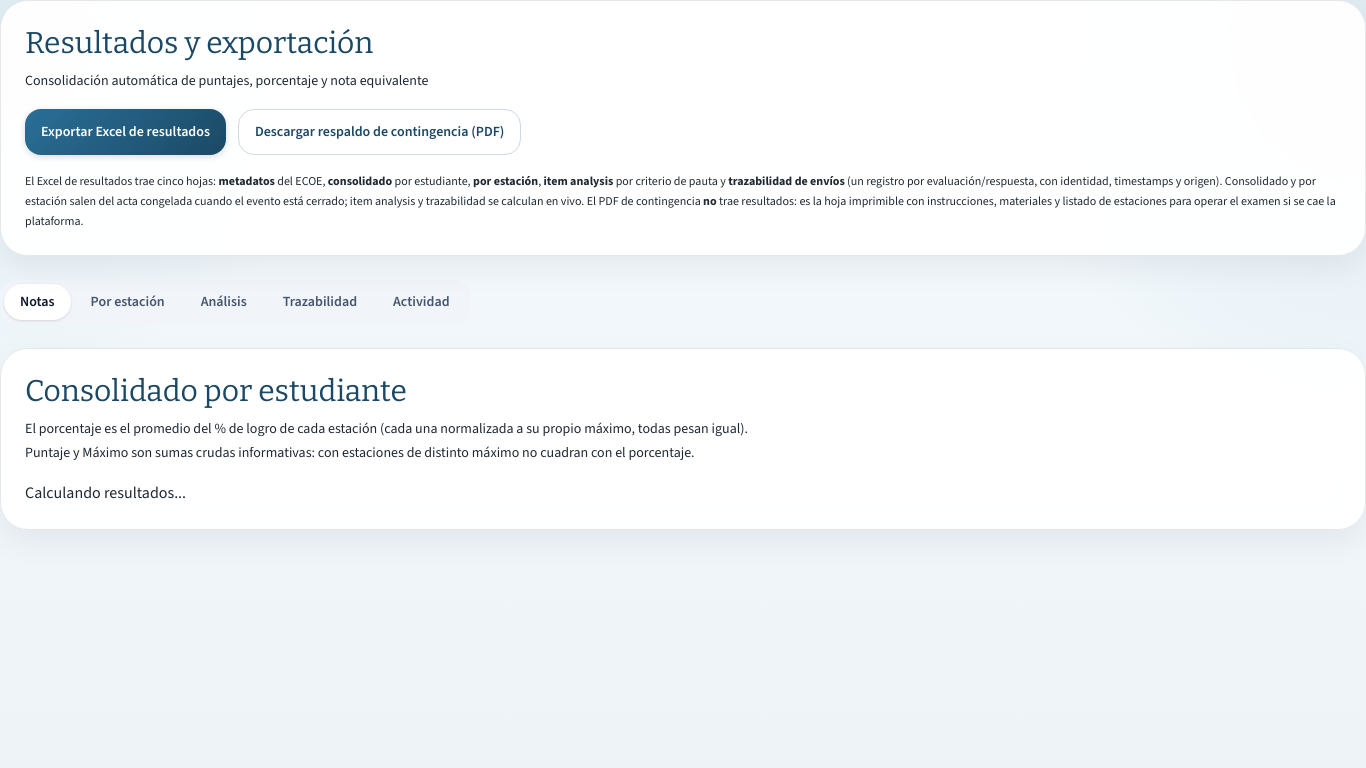
Test: ResultsPage — resultados por estación OPT-16 › renderiza el agregado por estación y la nota por estudiante desde by_station
Click the tab "Por estación".
click(128, 302)  # box [75, 284, 181, 320]
(page scrolled)
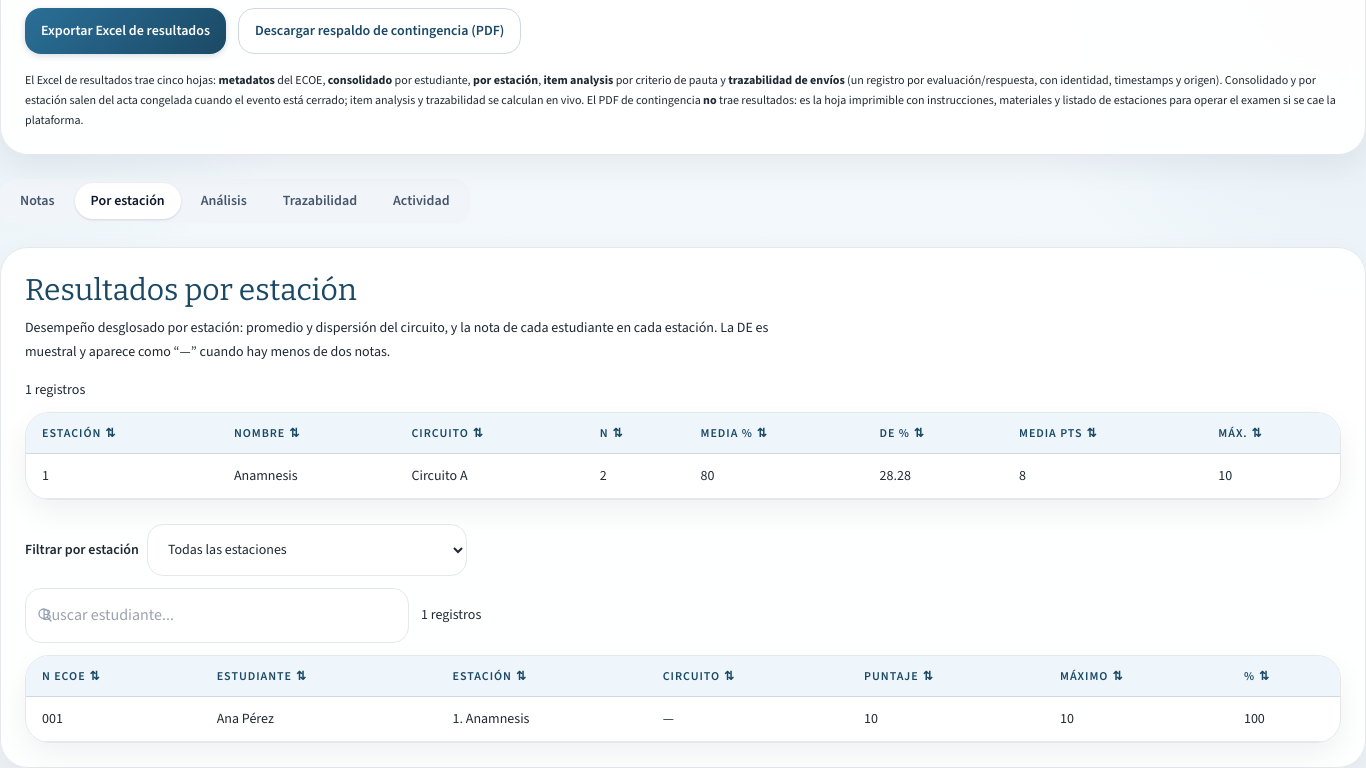
Expected: the heading "Resultados por estación" is shown, [25, 272, 357, 308]
Expected: the text "Anamnesis" is shown, [218, 454, 395, 498]
Expected: the text "Ana Pérez" is shown, [201, 696, 436, 741]
